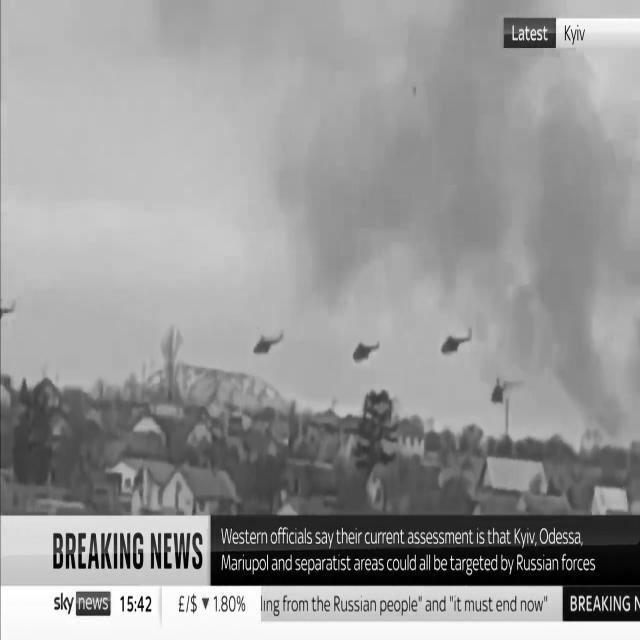helikopter: (423, 300, 484, 370), (236, 304, 298, 372), (342, 318, 395, 376)
